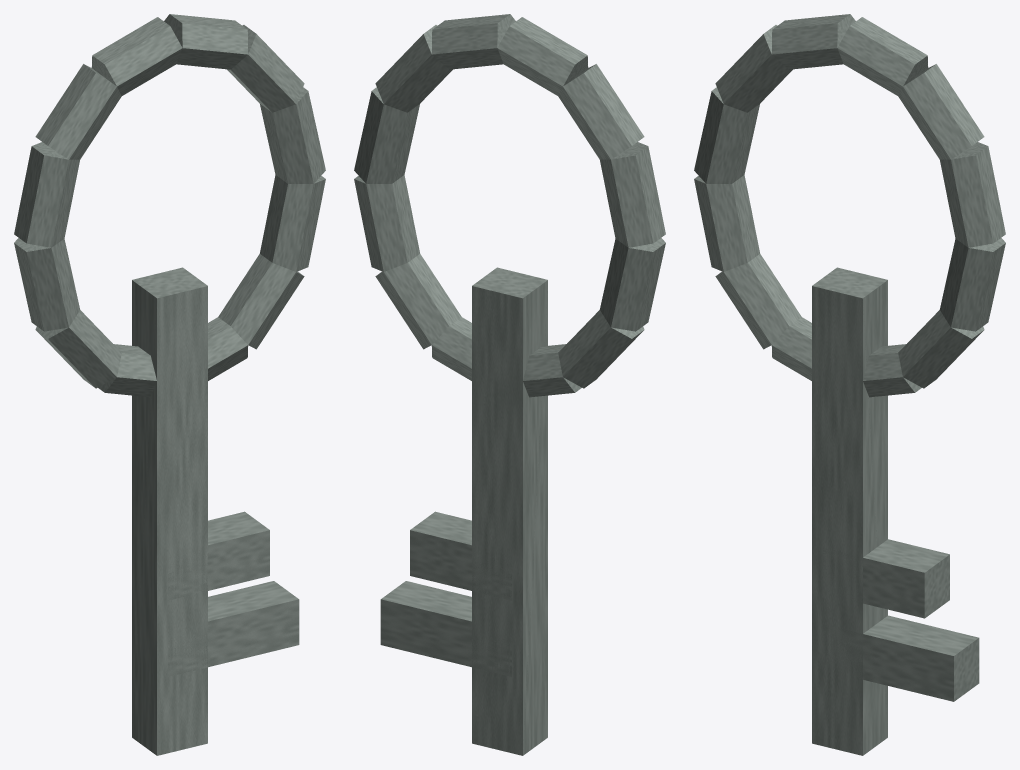
Rendered from Key.obj.
3 renders of one model, left to right at view 1: azimuth 30°, elevation 25°; view 2: azimuth 150°, elevation 25°; view 3: azimuth 330°, elevation 25°, orthographic.
Parts seen in each view (by area): view 1: Key; view 2: Key; view 3: Key.
Part boxes in pixels (x1,y1,x2,y2): Key: (14,14,325,755); Key: (354,14,665,755); Key: (694,14,1005,755).
Size of the model in its own units: 0.0411 by 0.0945 by 0.006.
Materials: 1 (1 with a texture image).
